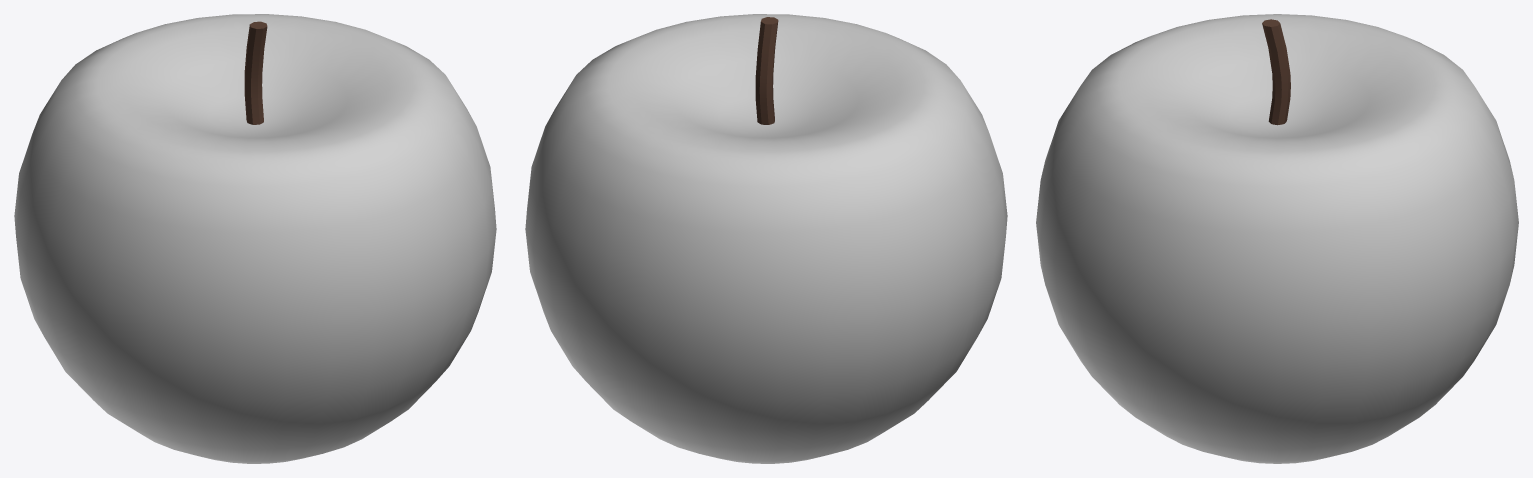
Rendered from green_apple.fbx.
3 renders of one model, left to right at view 1: azimuth 30°, elevation 25°; view 2: azimuth 150°, elevation 25°; view 3: azimuth 270°, elevation 25°, orthographic.
Parts seen in each view (by area): view 1: green_apple; view 2: green_apple; view 3: green_apple.
Boxes of the visible parts, x1,y1,x2,y2 form: green_apple: [14, 14, 496, 463]; green_apple: [525, 14, 1007, 463]; green_apple: [1036, 14, 1518, 463].
Bounding box in the file's own units: 6 × 5.74 × 6.
